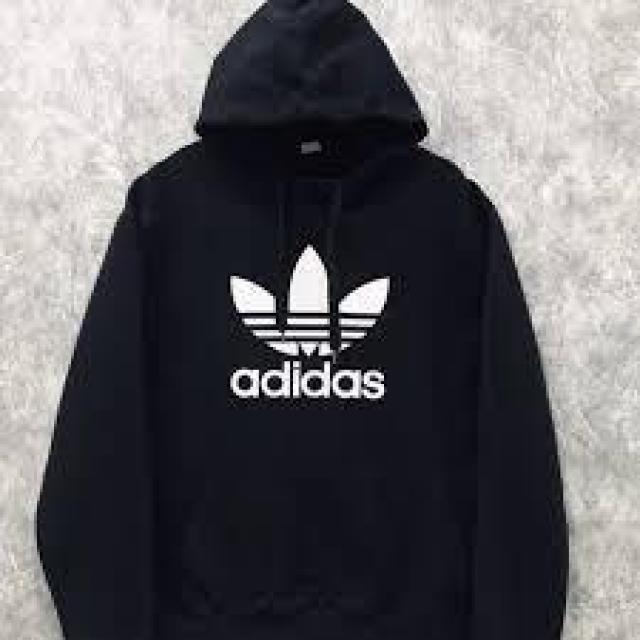sweater: (28, 3, 566, 640)
